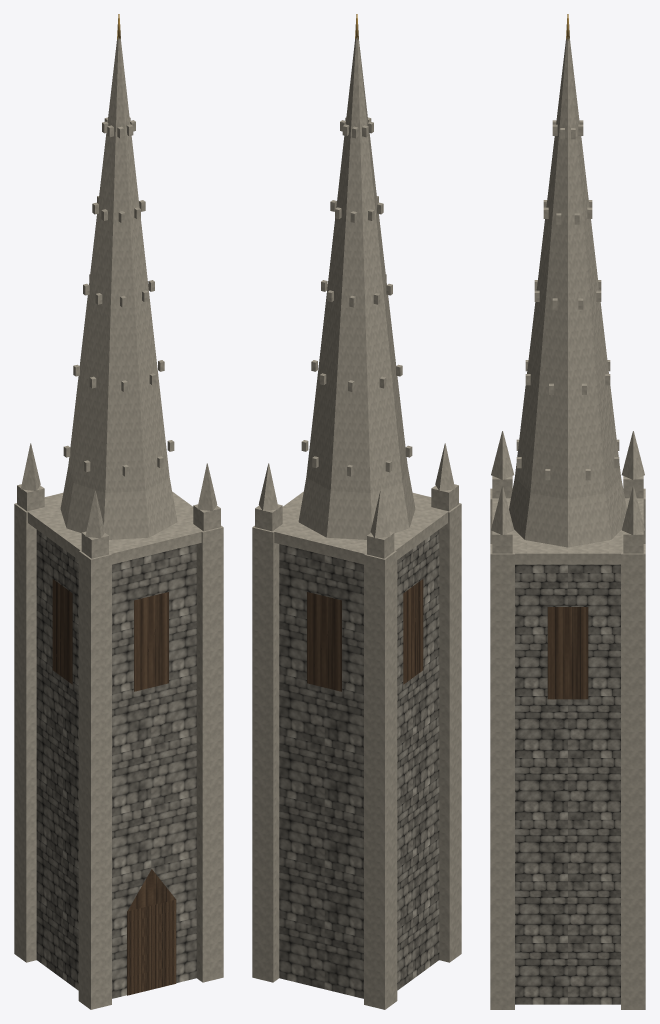
The model's file is Spire_Church_1.gltf.
3 renders of one model, left to right at view 1: azimuth 30°, elevation 25°; view 2: azimuth 150°, elevation 25°; view 3: azimuth 270°, elevation 25°, orthographic.
Visible parts, largest first — view 1: Spire_Church_1; view 2: Spire_Church_1; view 3: Spire_Church_1.
Part boxes in pixels (box(x1,y1,x2,y2)): Spire_Church_1: box(14, 14, 223, 1009); Spire_Church_1: box(252, 14, 461, 1009); Spire_Church_1: box(490, 14, 645, 1009).
Size of the model in its own units: 7.6 by 52 by 7.6.
Materials: 4 (4 with a texture image).
